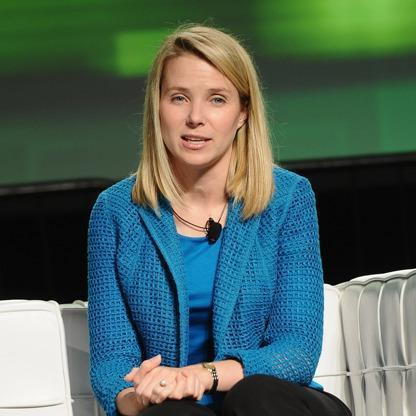long-hair: (129, 167, 280, 194)
